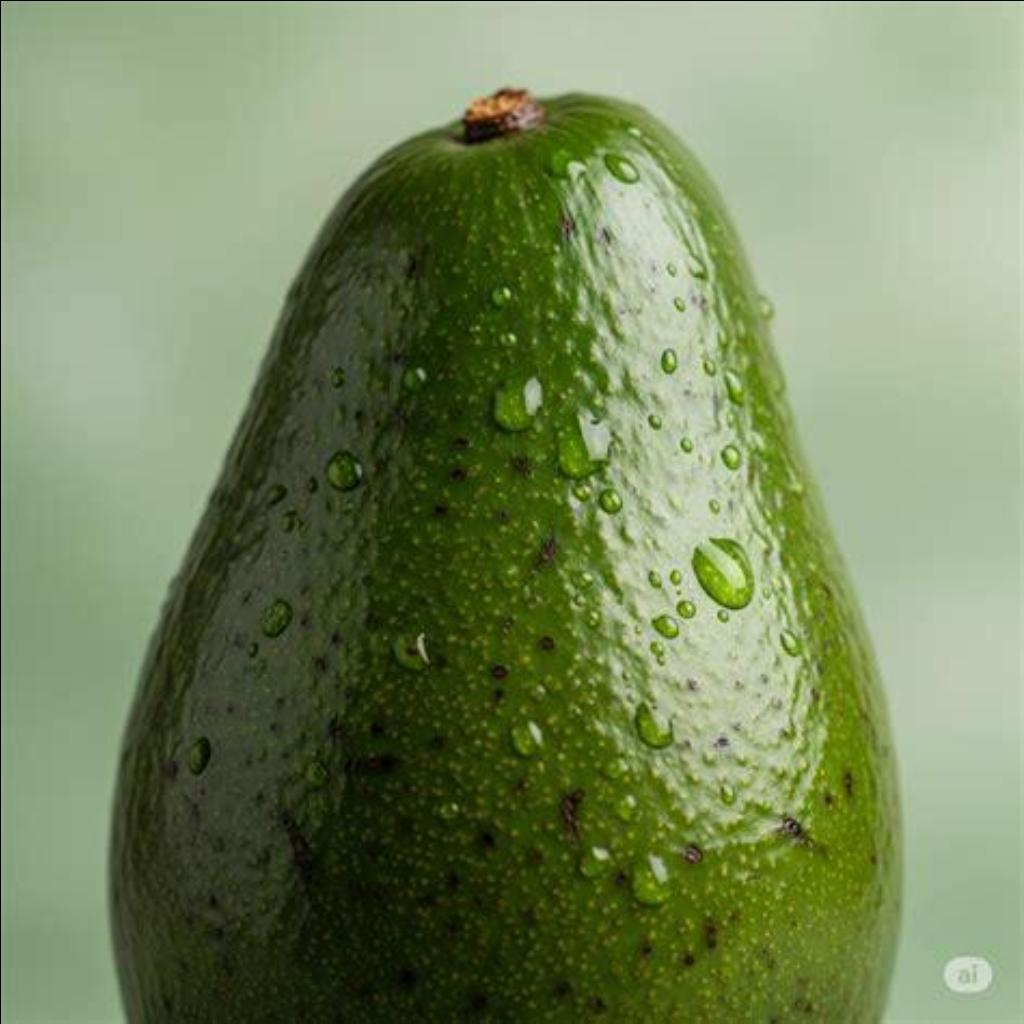fruto_sano: (124, 97, 904, 1024)
